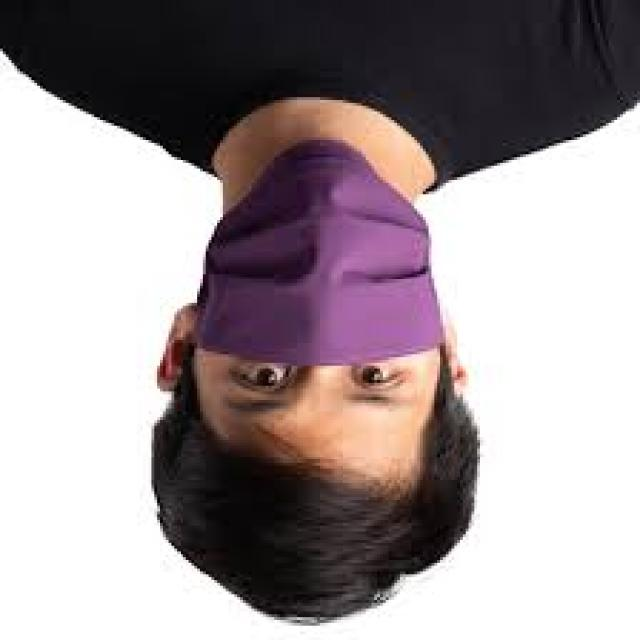mask: (183, 142, 451, 377)
